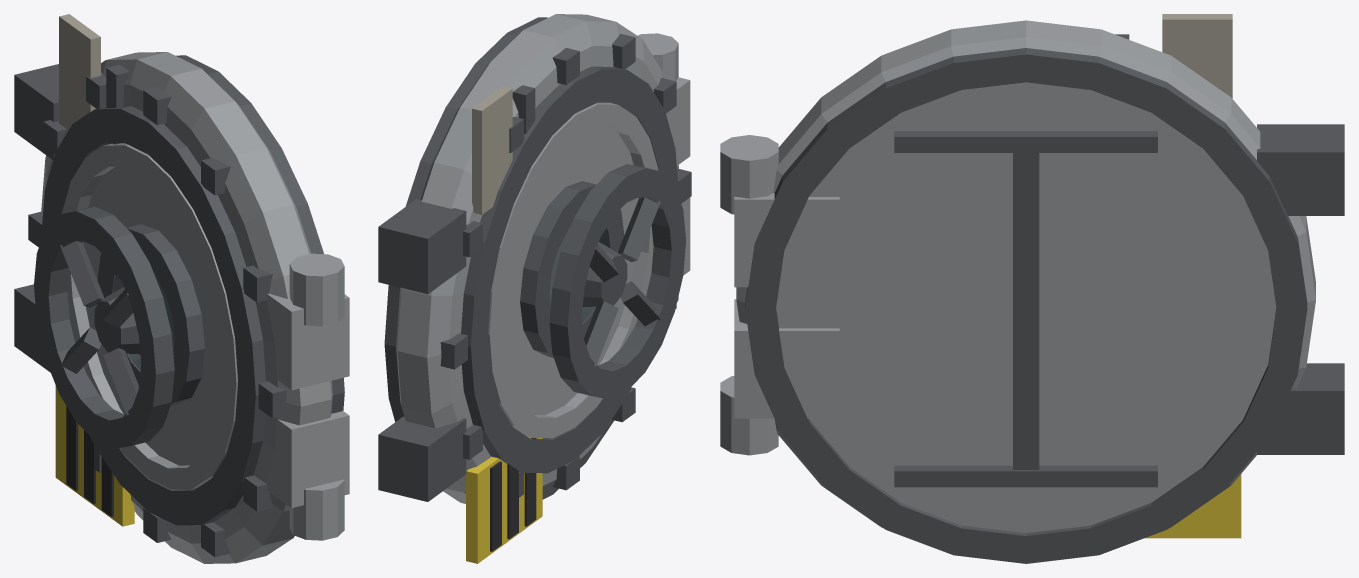
Rendered from airlock_hatch_exterior.glb.
The picture shows the model from 3 angles, left to right: view 1: azimuth 30°, elevation 25°; view 2: azimuth 150°, elevation 25°; view 3: azimuth 270°, elevation 25°; orthographic projection. The views are drawn at different scales.
Parts seen in each view (by area): view 1: airlock_hatch_exterior; view 2: airlock_hatch_exterior; view 3: airlock_hatch_exterior.
Part boxes in pixels (left/top/right/bottom): airlock_hatch_exterior: left=14, top=14, right=349, bottom=563; airlock_hatch_exterior: left=378, top=14, right=691, bottom=563; airlock_hatch_exterior: left=720, top=14, right=1344, bottom=563.
Bounding box in the file's own units: 0.3828 × 1.32 × 1.42.
